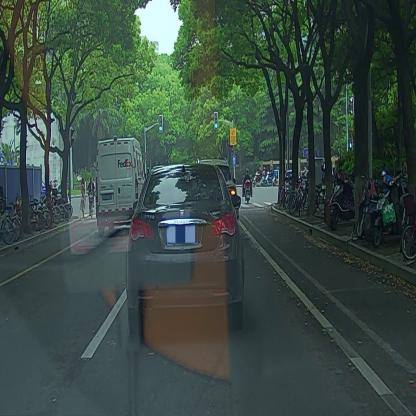Green Light: (159, 113, 163, 133), (214, 111, 218, 129)
